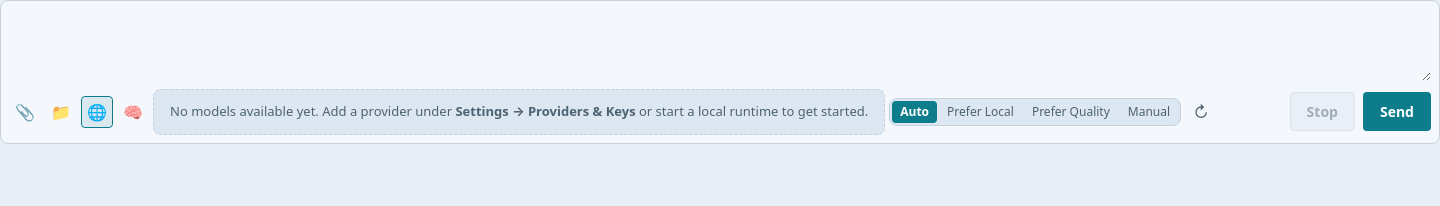
Test: chat surface › Composer shows a non-fatal notice and STILL sends when web search fails/unconfigured
Type "latest rust news" into the text box named "Message" at x=720, y=45, box [9,9,1431,81]
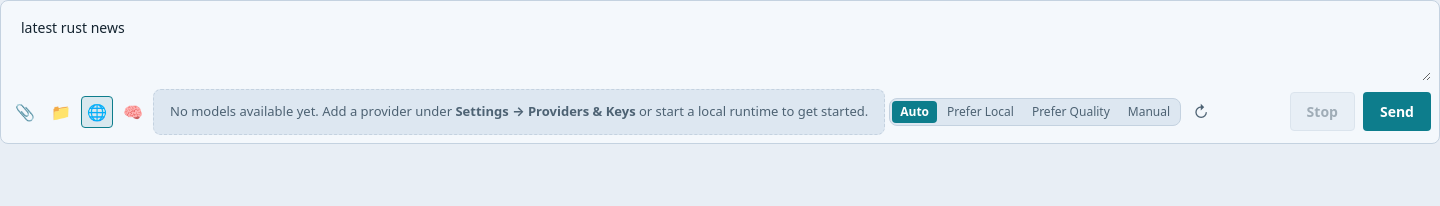
Press Enter in the text box named "Message", box [9,9,1431,81]
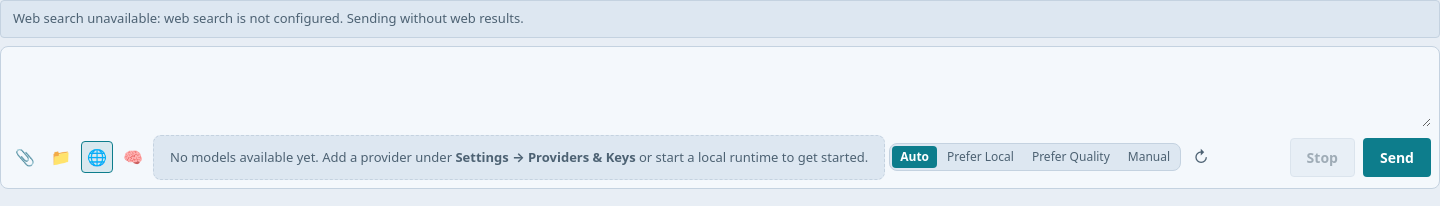
Now the message with test id "composer-notice" shows "Web search unavailable", box [13,9,524,27]
Now the message with test id "composer-notice" shows "Sending without web results", box [13,9,524,27]
